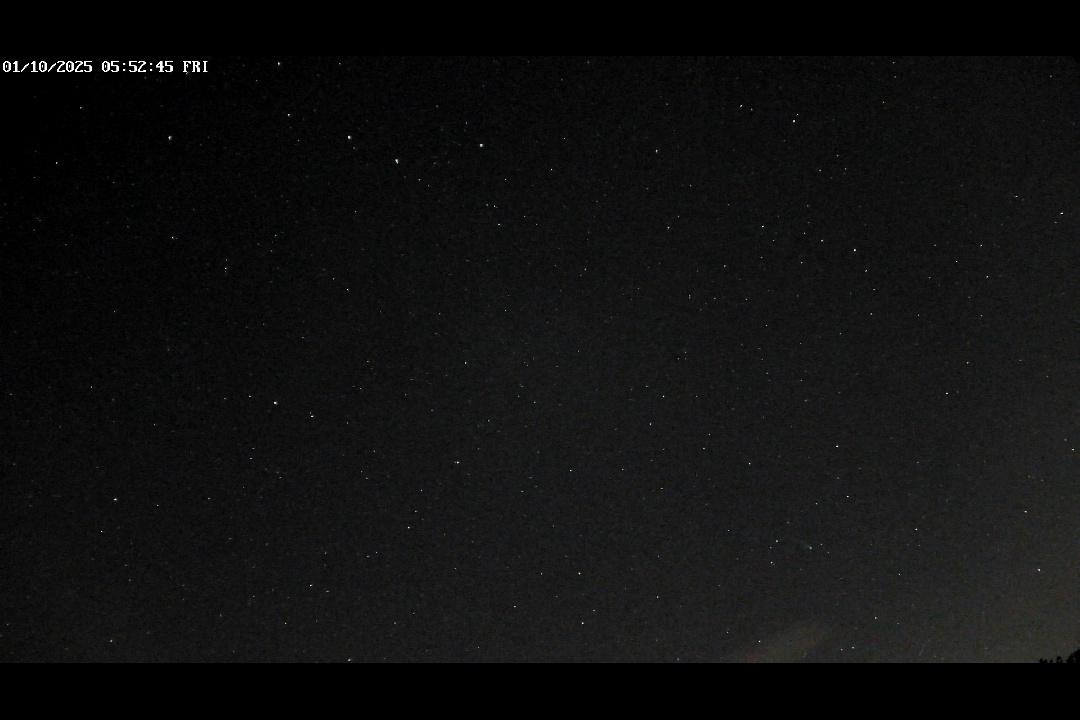Plane: (794, 537, 816, 551)
